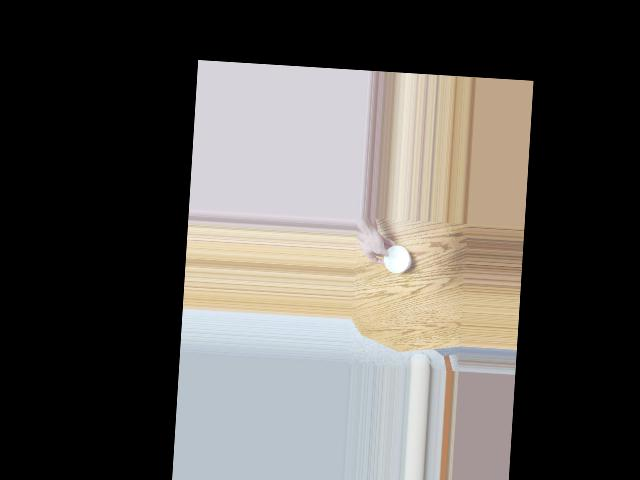cotage: (377, 242, 412, 280)
